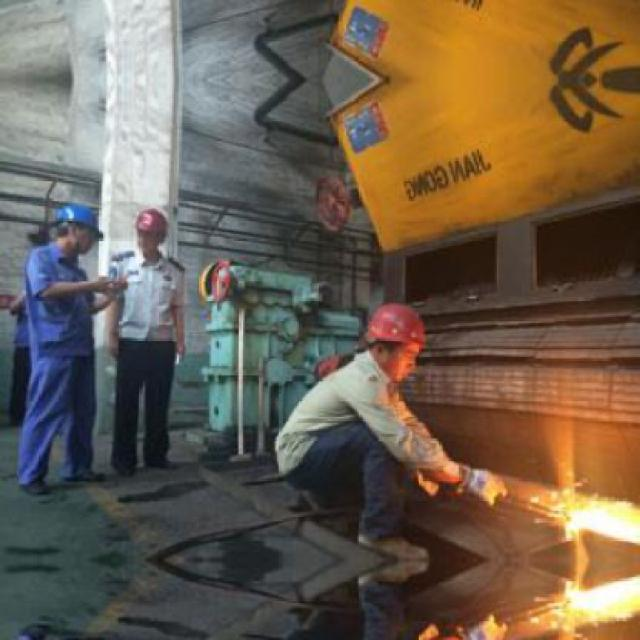con casco: (322, 302, 436, 405), (35, 197, 99, 271), (135, 201, 176, 269)
